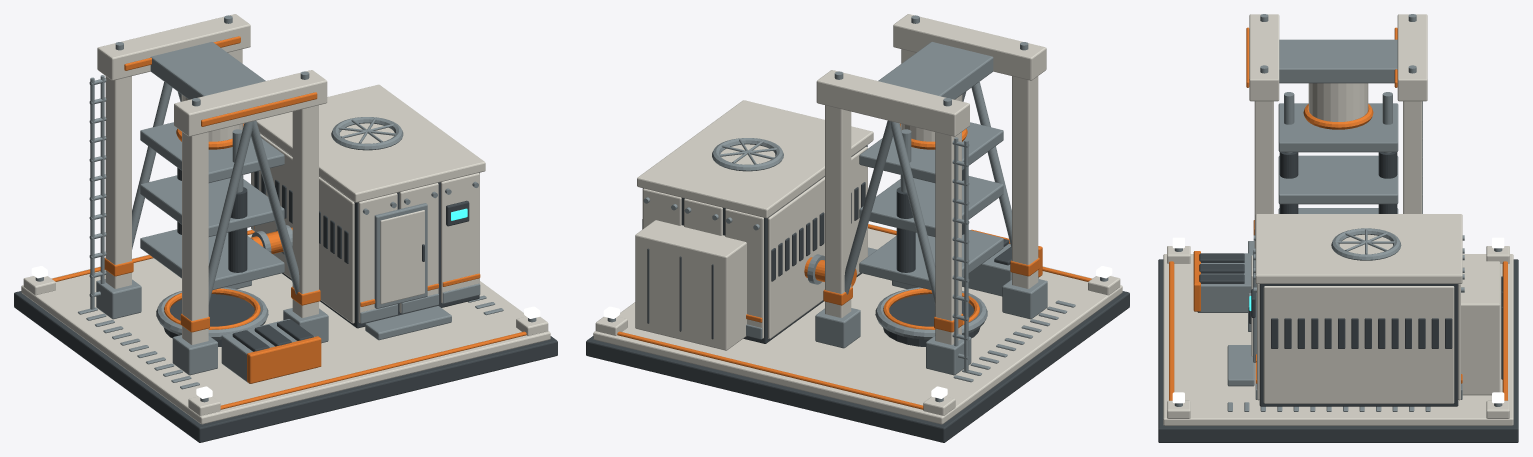
The model's file is SM_RareMineralMine_Refined.fbx.
3 views of the same model, side by side, from view 1: azimuth 30°, elevation 25°; view 2: azimuth 150°, elevation 25°; view 3: azimuth 270°, elevation 25° (orthographic). The views are drawn at different scales.
Visible parts, largest first — view 1: SM_RareMineralMine_Refined.001; view 2: SM_RareMineralMine_Refined.001; view 3: SM_RareMineralMine_Refined.001.
Boxes of the visible parts, <box> form: SM_RareMineralMine_Refined.001: <box>14,14,557,442</box>; SM_RareMineralMine_Refined.001: <box>586,14,1129,442</box>; SM_RareMineralMine_Refined.001: <box>1158,14,1518,442</box>.
Bounding box in the file's own units: 390 × 350 × 302.
